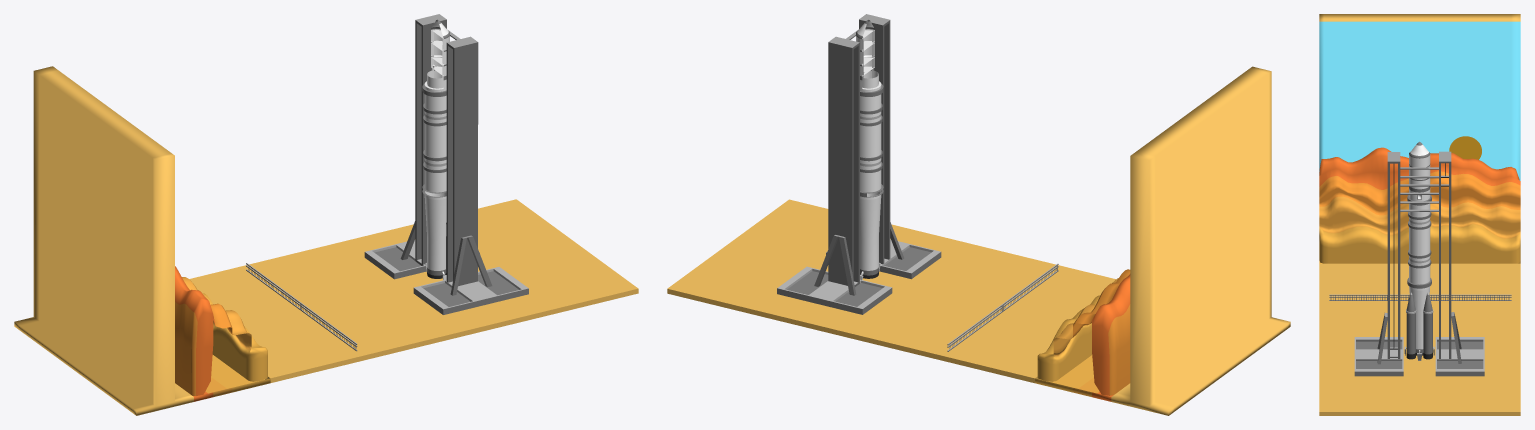
File: Intro.fbx
The picture shows the model from 3 angles, left to right: view 1: azimuth 30°, elevation 25°; view 2: azimuth 150°, elevation 25°; view 3: azimuth 270°, elevation 25°; orthographic projection. The views are drawn at different scales.
Visible parts, largest first — view 1: Cube.001, Cube.009, Arms.003, Rocket, Cube.005, Cube.000; view 2: Cube.001, Cube.009, Arms.003, Rocket, Cube.005, Cube.000; view 3: Cube.001, Cube.009, Rocket, Arms.003, Cube.005, Cube.000, Arms.002.
Part boxes in pixels (x1,y1,x2,y2): Cube.001: [14, 66, 270, 415]; Cube.009: [189, 199, 638, 382]; Arms.003: [400, 14, 492, 295]; Rocket: [422, 19, 449, 280]; Cube.005: [364, 240, 528, 314]; Cube.000: [246, 263, 357, 351]; Cube.001: [1035, 66, 1290, 415]; Cube.009: [667, 199, 1115, 383]; Arms.003: [814, 14, 904, 295]; Rocket: [856, 19, 883, 279]; Cube.005: [777, 239, 941, 314]; Cube.000: [947, 263, 1058, 351]; Cube.001: [1319, 14, 1520, 263]; Cube.009: [1319, 263, 1520, 415]; Rocket: [1404, 141, 1434, 360]; Arms.003: [1377, 151, 1461, 364]; Cube.005: [1354, 337, 1484, 376]; Cube.000: [1329, 294, 1511, 300]; Arms.002: [1393, 164, 1394, 348].
Bounding box in the file's own units: 10215 × 5156 × 4302.
